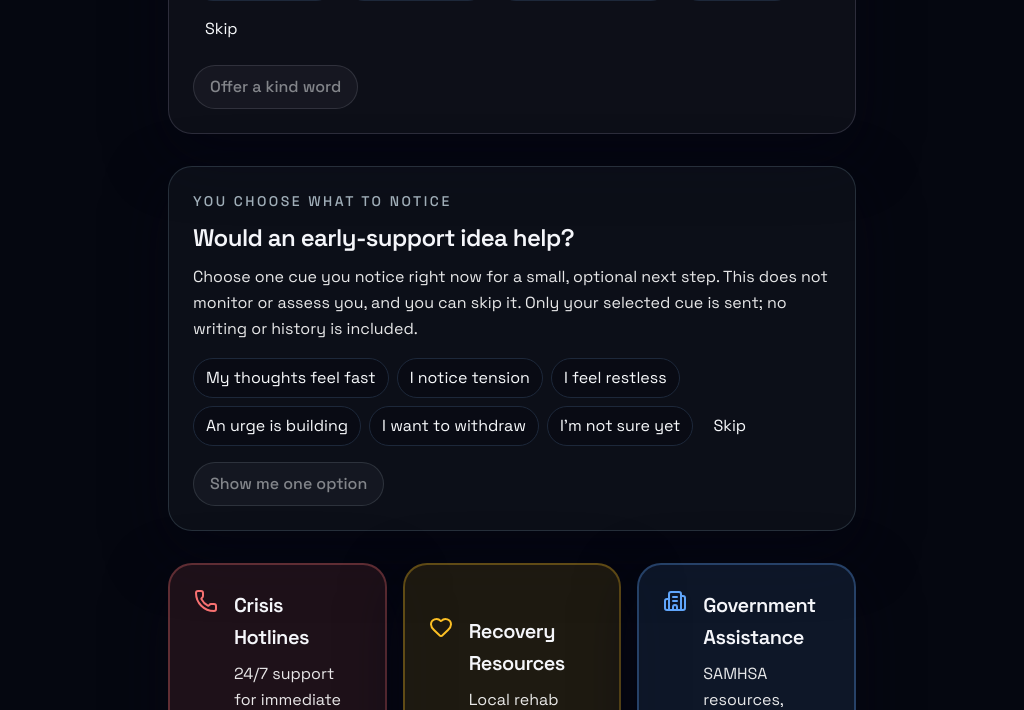
Test: SupportHubPage Lighthouse early-support moment › provides a retry-later state if the response is unavailable
(page scrolled)
Click the button "My thoughts feel fast" at [291, 378], box [193,358,389,398]
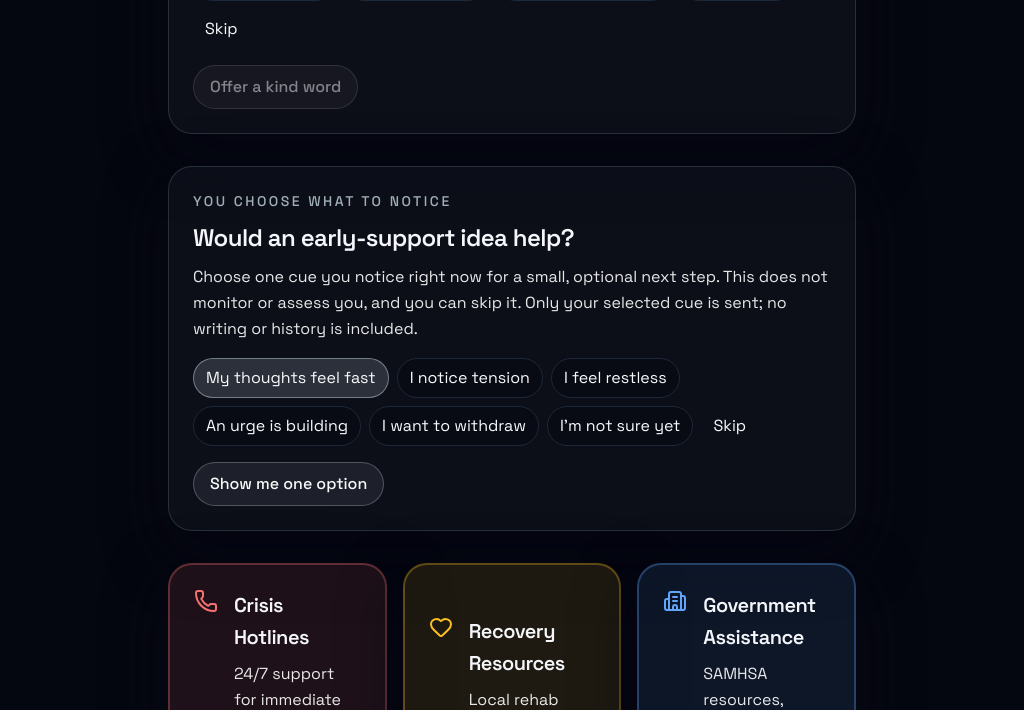
Click the button "Show me one option" at [289, 484], box [193,462,384,506]
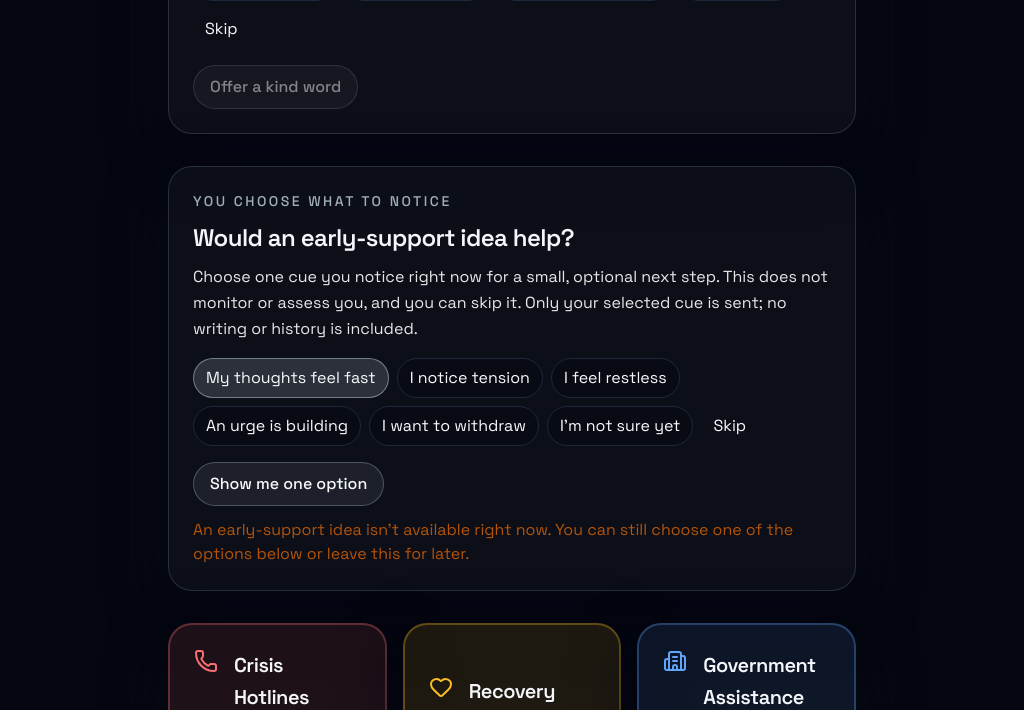
expect the message shows "An early-support idea isn’t available right now": met, box [193,518,793,564]
